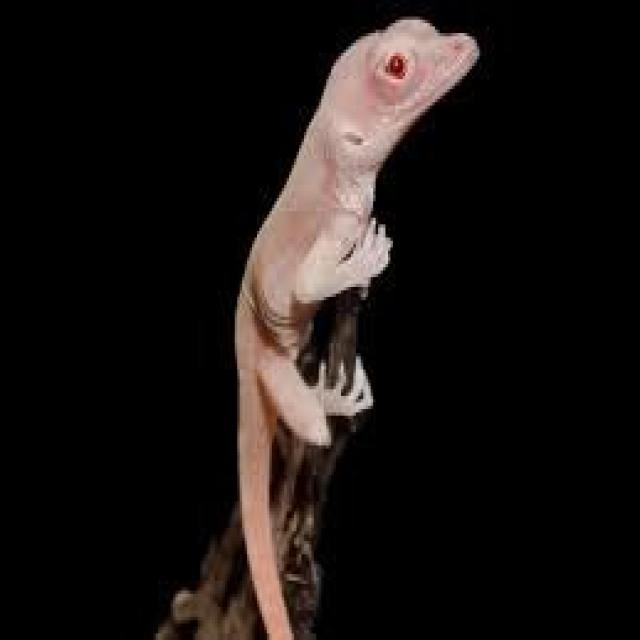Lizard: (228, 23, 475, 620)
